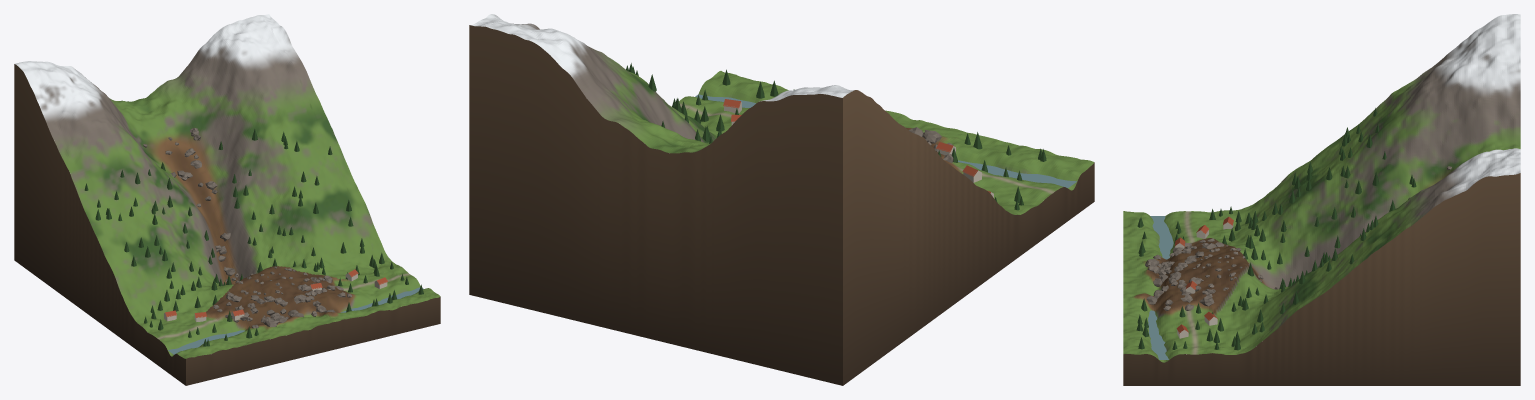
The model's file is mudflow.glb.
The picture shows the model from 3 angles, left to right: view 1: azimuth 30°, elevation 25°; view 2: azimuth 150°, elevation 25°; view 3: azimuth 270°, elevation 25°; orthographic projection. The views are drawn at different scales.
Parts seen in each view (by area): view 1: terrain, plinth, trees, boulders, houses, water; view 2: plinth, terrain, trees, water, houses; view 3: terrain, plinth, trees, boulders, water, houses.
Part boxes in pixels (left/top/right/bottom): terrain: left=14, top=14, right=440, bottom=358; plinth: left=14, top=64, right=440, bottom=385; trees: left=84, top=129, right=423, bottom=346; boulders: left=143, top=128, right=352, bottom=328; houses: left=164, top=269, right=387, bottom=321; water: left=168, top=287, right=423, bottom=354; plinth: left=469, top=25, right=1094, bottom=385; terrain: left=470, top=14, right=1094, bottom=214; trees: left=626, top=63, right=1046, bottom=210; water: left=695, top=94, right=1076, bottom=187; houses: left=723, top=99, right=993, bottom=197; terrain: left=1123, top=14, right=1520, bottom=362; plinth: left=1123, top=173, right=1520, bottom=385; trees: left=1136, top=108, right=1416, bottom=350; boulders: left=1145, top=166, right=1451, bottom=310; water: left=1148, top=216, right=1173, bottom=359; houses: left=1175, top=217, right=1233, bottom=338.
Size of the model in its own units: 12 by 8.88 by 14.
